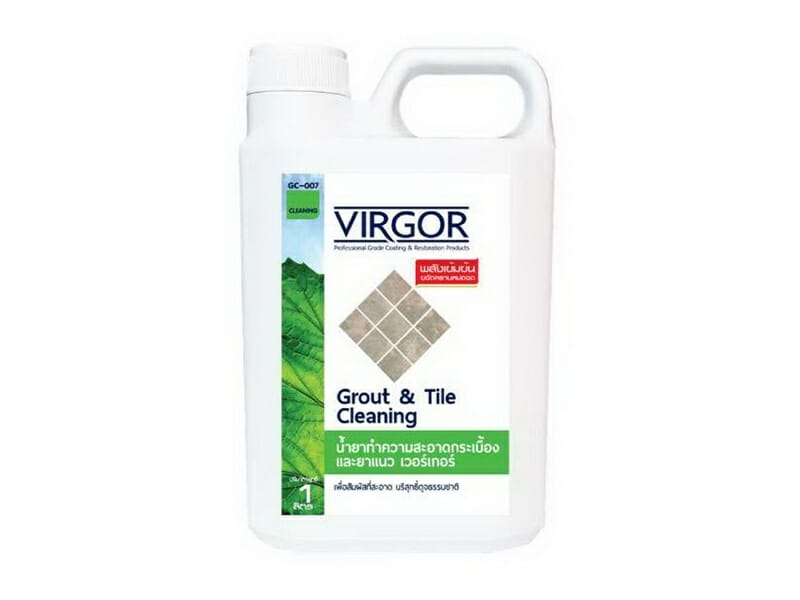Cleaning_solution: (227, 27, 556, 563)
